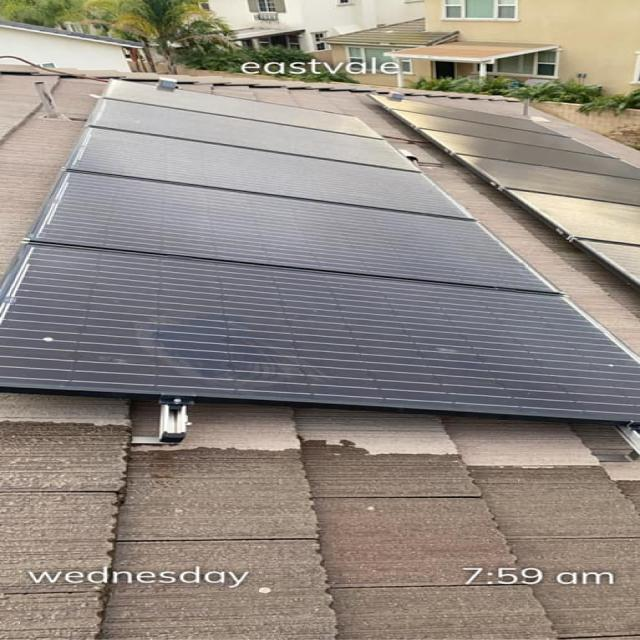dust-solar-panel: (0, 79, 640, 423)
